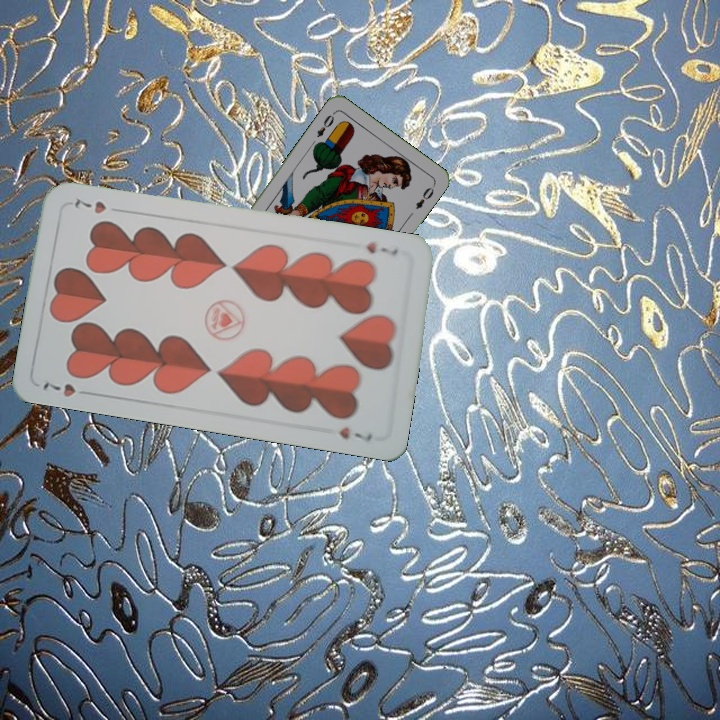EO: (313, 108, 338, 140)
H7: (39, 378, 95, 400), (362, 238, 401, 259)
